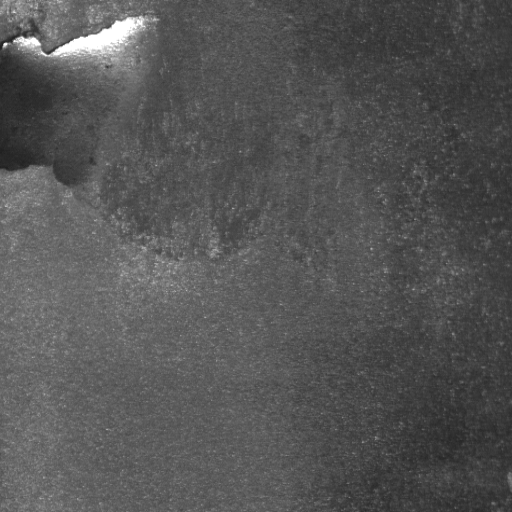qiaopi: (3, 10, 265, 265)
